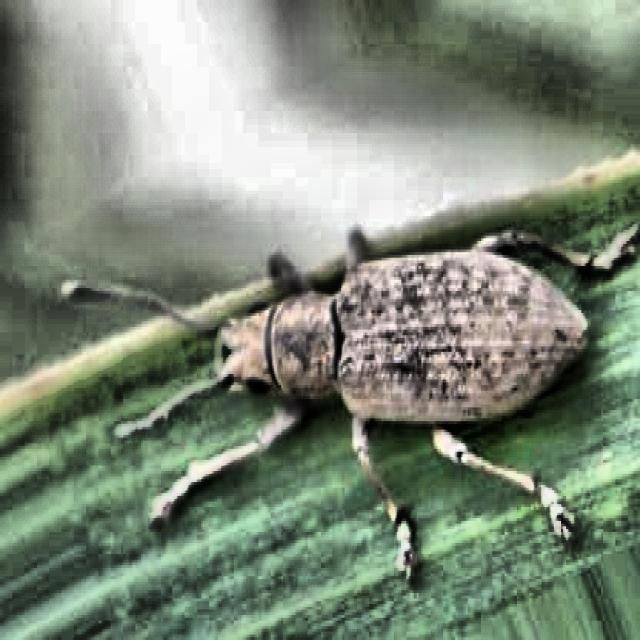Stink bug: (134, 185, 604, 510)
